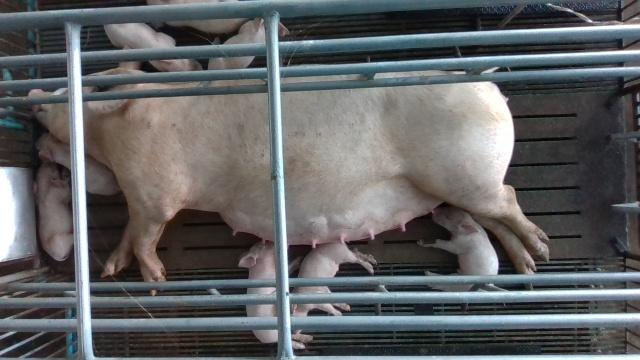piglet: (238, 238, 315, 352), (291, 241, 378, 335), (418, 203, 500, 293), (35, 132, 120, 198), (101, 24, 204, 72), (30, 161, 75, 262), (208, 18, 290, 70), (147, 0, 248, 31)
sow-sleep-lactate: (27, 45, 550, 295)
